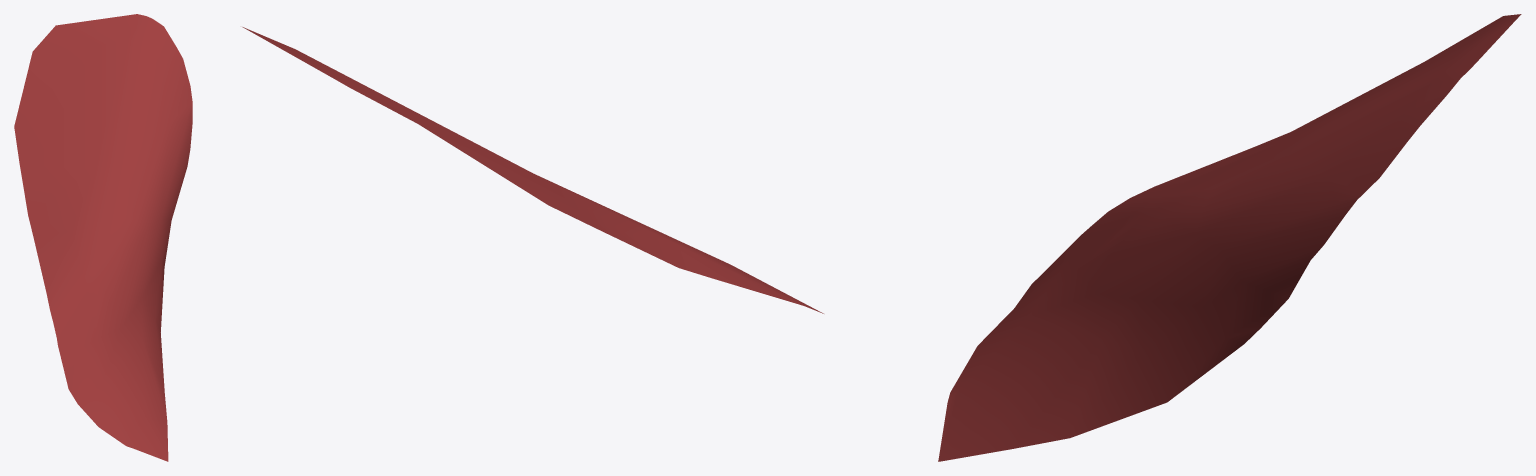
The model's file is scalenus-medius-muscle-or.glb.
The picture shows the model from 3 angles, left to right: view 1: azimuth 30°, elevation 25°; view 2: azimuth 150°, elevation 25°; view 3: azimuth 270°, elevation 25°; orthographic projection. The views are drawn at different scales.
Visible parts, largest first — view 1: Scalenus medius muscle.or; view 2: Scalenus medius muscle.or; view 3: Scalenus medius muscle.or.
Part boxes in pixels (x1=…): Scalenus medius muscle.or: x1=14, y1=14, x2=192, y2=461; Scalenus medius muscle.or: x1=242, y1=27, x2=823, y2=313; Scalenus medius muscle.or: x1=938, y1=14, x2=1521, y2=461.
Size of the model in its own units: 0.00845 by 0.0107 by 0.0112.
